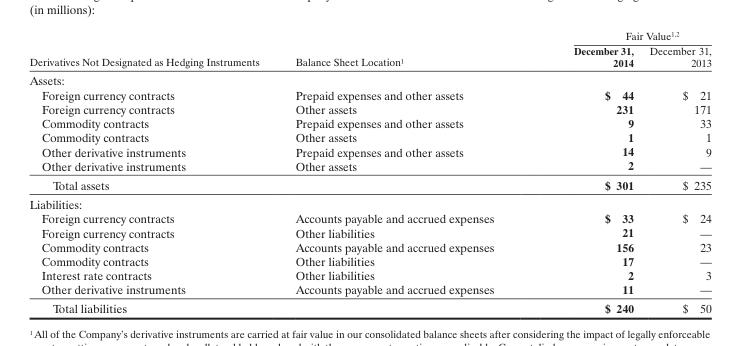table: (28, 29, 710, 315)
table column: (276, 29, 533, 315), (28, 29, 276, 315), (533, 29, 640, 315), (640, 29, 710, 315)
table column header: (28, 29, 710, 70)
table projected row header: (28, 70, 710, 87), (28, 194, 710, 210)
table row: (28, 43, 710, 70), (28, 175, 710, 194), (28, 70, 710, 87), (28, 158, 710, 175), (28, 298, 710, 315), (28, 194, 710, 210), (28, 282, 710, 298), (28, 115, 710, 130), (28, 210, 710, 225), (28, 253, 710, 268), (28, 29, 710, 43), (28, 87, 710, 101), (28, 101, 710, 115), (28, 130, 710, 144), (28, 144, 710, 158), (28, 225, 710, 239), (28, 239, 710, 253), (28, 268, 710, 282)
table spanning cell: (276, 29, 533, 70), (28, 29, 276, 70), (533, 29, 710, 43)
